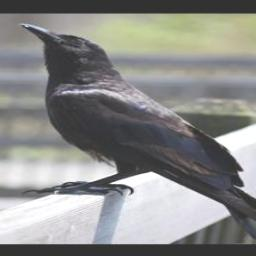Crow: (20, 23, 256, 239)
